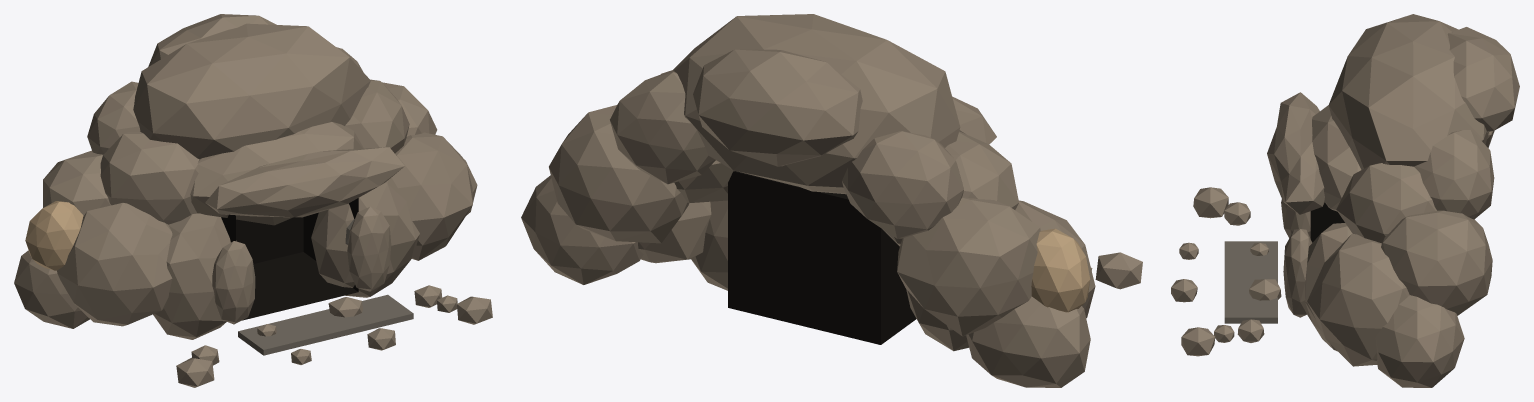
Rendered from tambotoco_cave_lod0.glb.
The picture shows the model from 3 angles, left to right: view 1: azimuth 30°, elevation 25°; view 2: azimuth 150°, elevation 25°; view 3: azimuth 270°, elevation 25°; orthographic projection. The views are drawn at different scales.
Parts seen in each view (by area): view 1: tambotoco_cave; view 2: tambotoco_cave; view 3: tambotoco_cave.
Boxes of the visible parts, x1,y1,x2,y2 form: tambotoco_cave: (14,14,492,387); tambotoco_cave: (521,14,1142,387); tambotoco_cave: (1171,14,1519,387).
Bounding box in the file's own units: 13.15 × 7.28 × 8.51.
